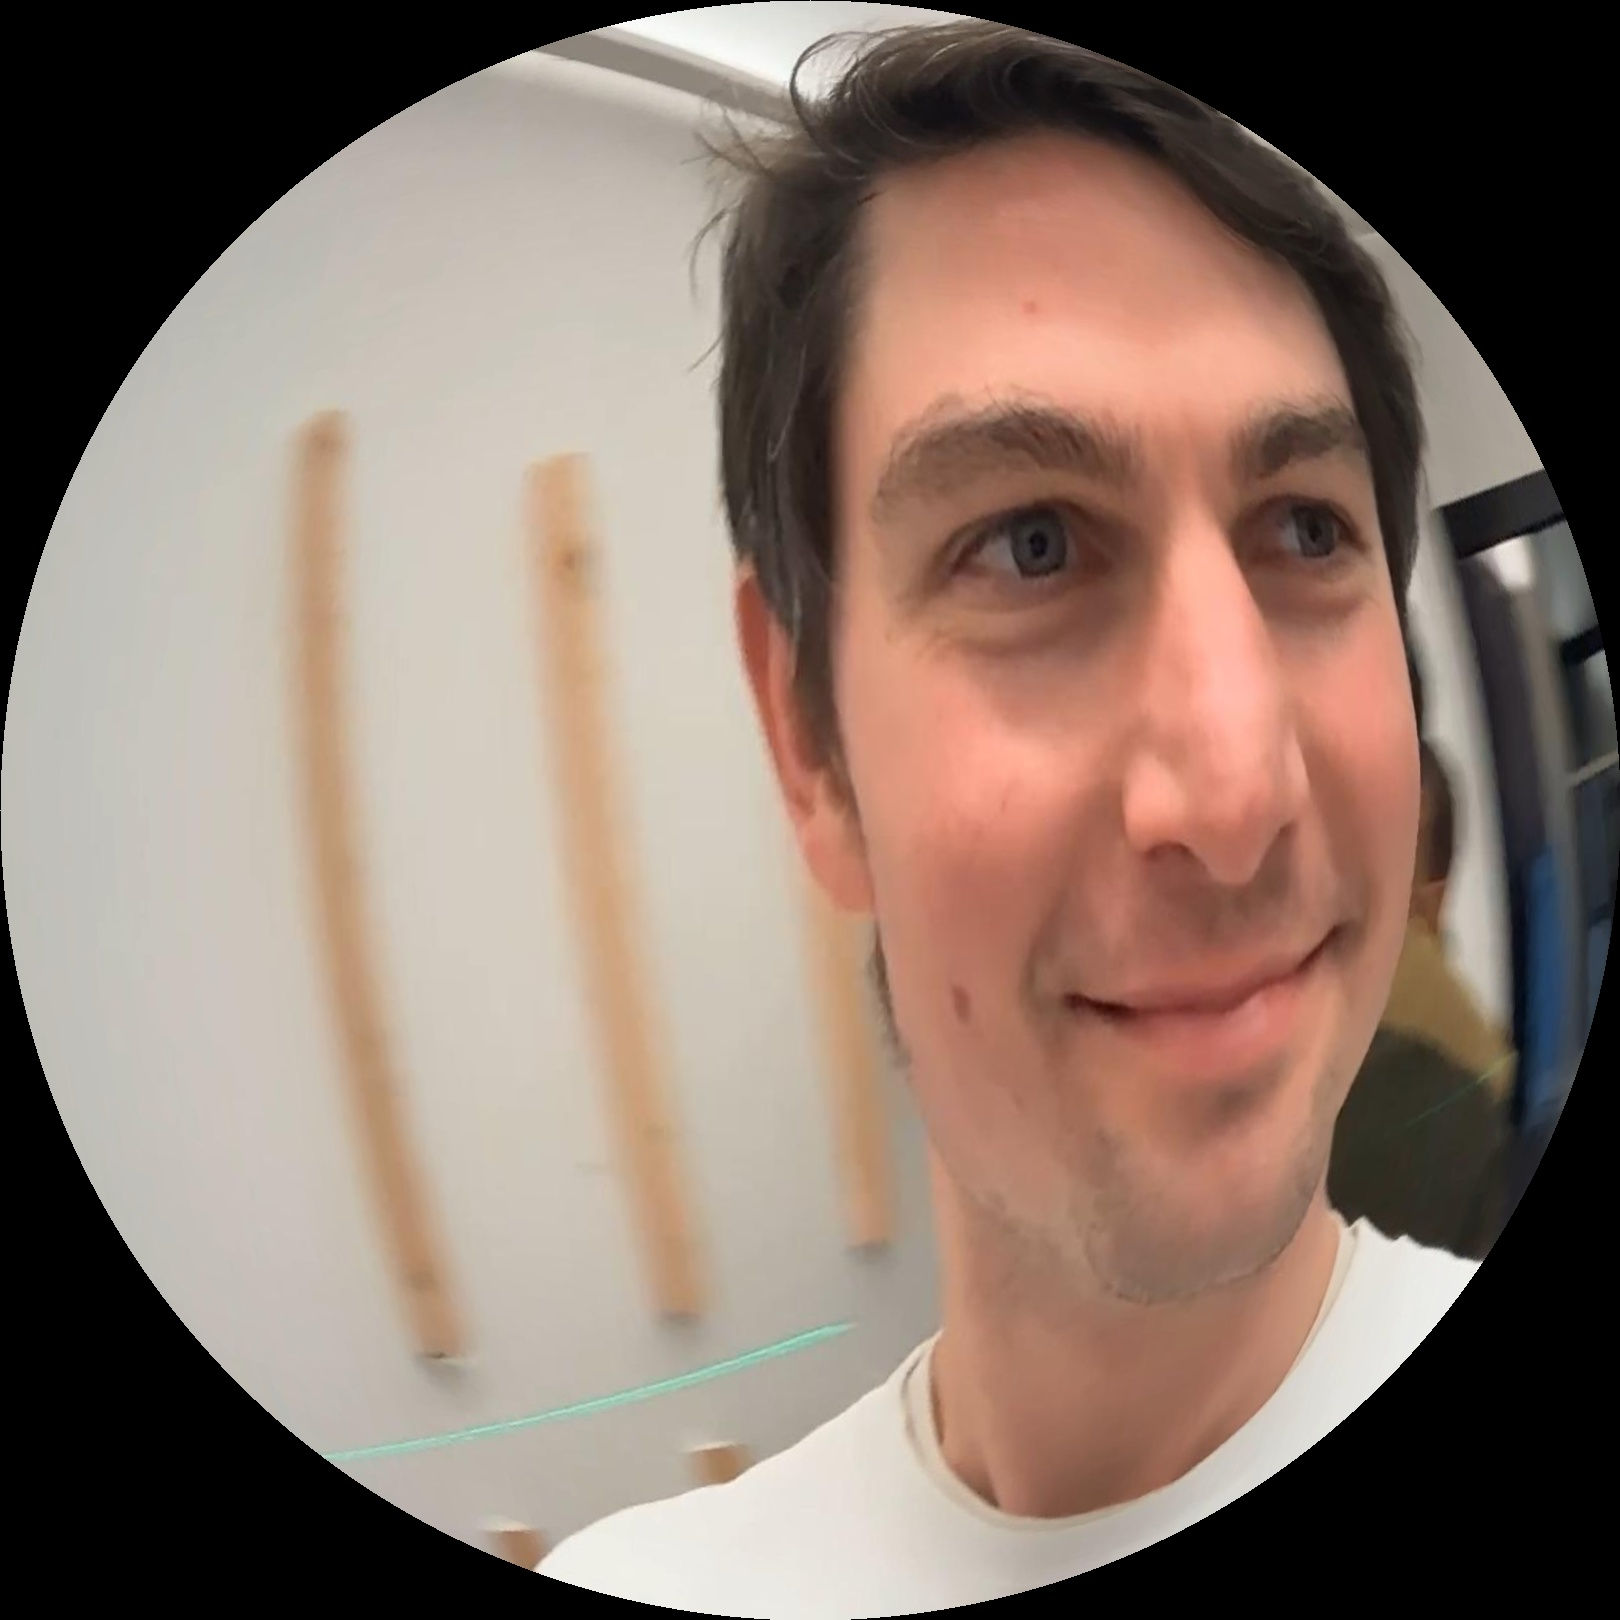face: (834, 205, 1425, 1314)
